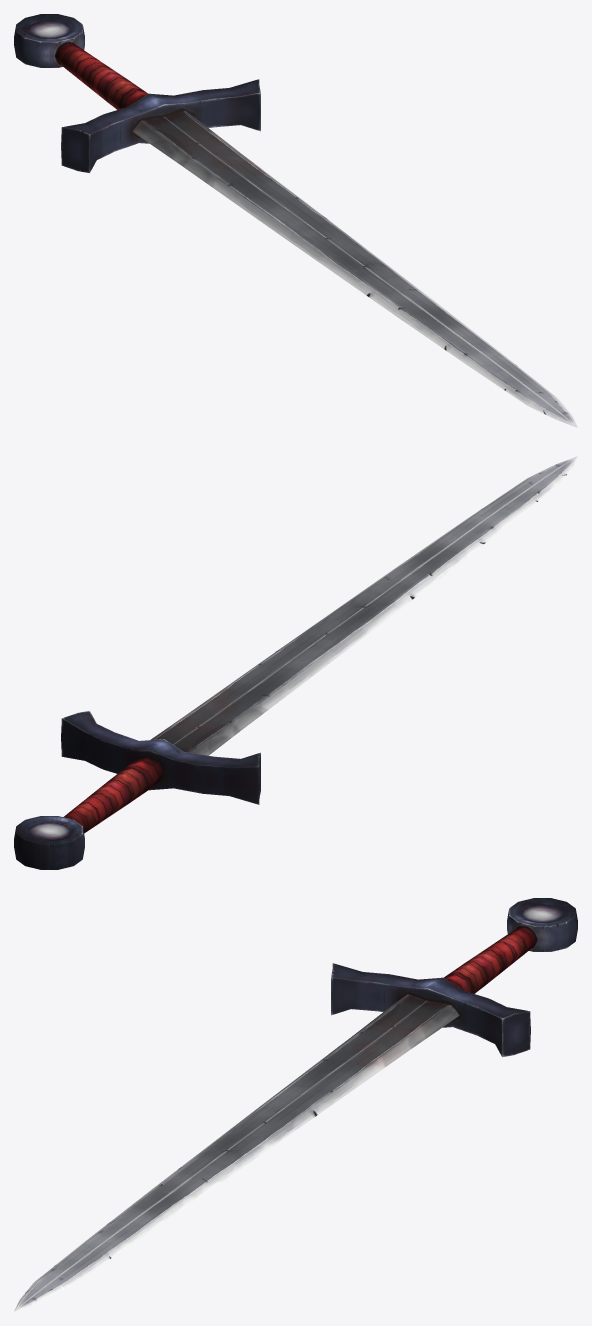
Rendered from sword_02.glb.
3 views of the same model, one above another, from view 1: azimuth 30°, elevation 25°; view 2: azimuth 150°, elevation 25°; view 3: azimuth 330°, elevation 25° (orthographic).
Parts seen in each view (by area): view 1: Sword02; view 2: Sword02; view 3: Sword02.
Part boxes in pixels (left/top/right/bottom): Sword02: left=14, top=14, right=577, bottom=427; Sword02: left=14, top=456, right=577, bottom=869; Sword02: left=14, top=898, right=577, bottom=1311.
Size of the model in its own units: 3.19 by 0.6518 by 15.17.
Materials: 1 (1 with a texture image).
